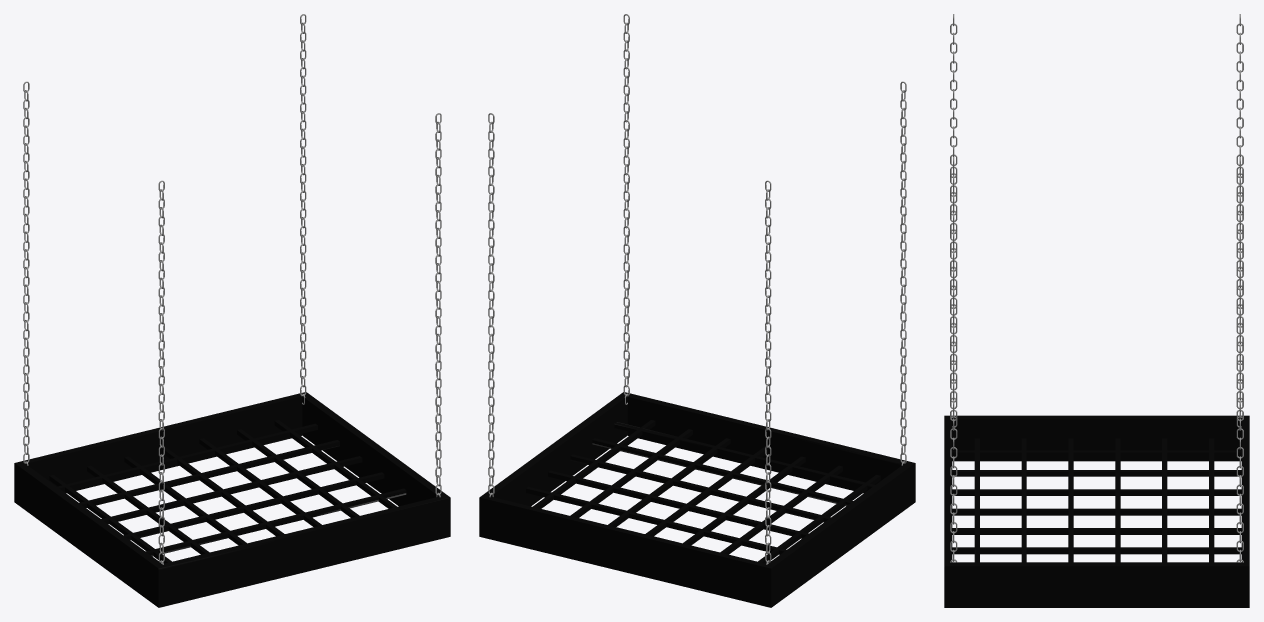
Rendered from pot rack.fbx.
3 renders of one model, left to right at view 1: azimuth 30°, elevation 25°; view 2: azimuth 150°, elevation 25°; view 3: azimuth 270°, elevation 25°, orthographic. The views are drawn at different scales.
Visible parts, largest first — view 1: Cube.009; view 2: Cube.009; view 3: Cube.009.
Part boxes in pixels (left/top/right/bottom): Cube.009: left=14, top=14, right=450, bottom=607; Cube.009: left=479, top=14, right=915, bottom=607; Cube.009: left=944, top=14, right=1249, bottom=607.
Bounding box in the file's own units: 1555 × 2150 × 1332.
